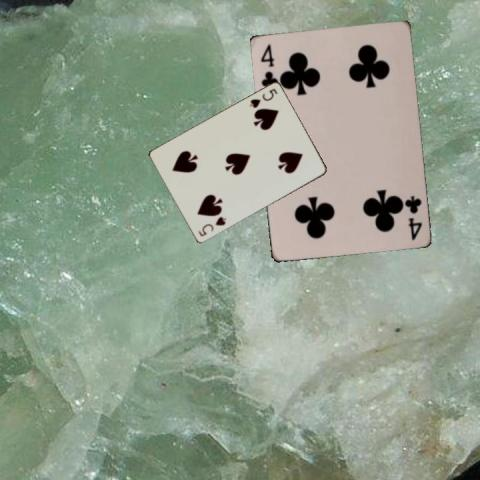4c: (402, 192, 424, 241), (257, 41, 278, 91)
5s: (196, 214, 228, 238), (246, 86, 279, 109)
